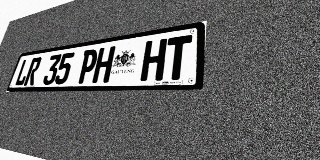3: (42, 54, 62, 85)
5: (54, 52, 75, 84)
H: (140, 38, 167, 81), (92, 46, 116, 83)
L: (14, 58, 32, 86)
P: (76, 48, 99, 84)
R: (23, 57, 42, 86)
T: (163, 35, 192, 80)
